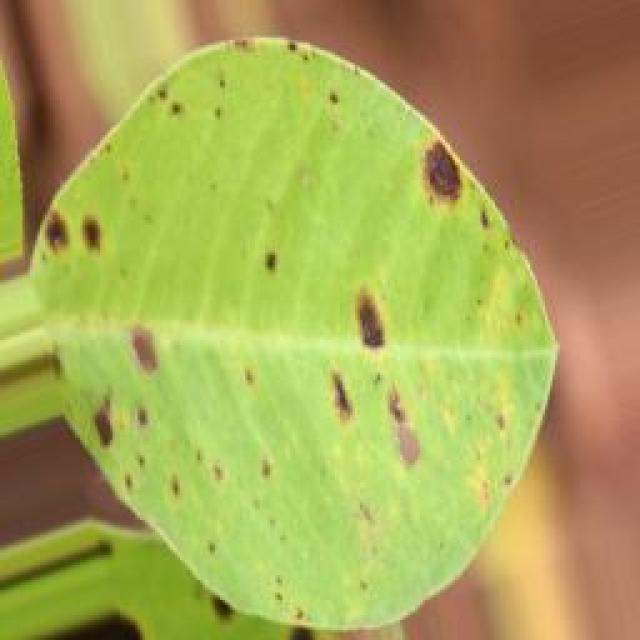Yellowish: (54, 21, 564, 516)
